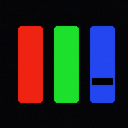3 line_h: (92, 78, 112, 84)
